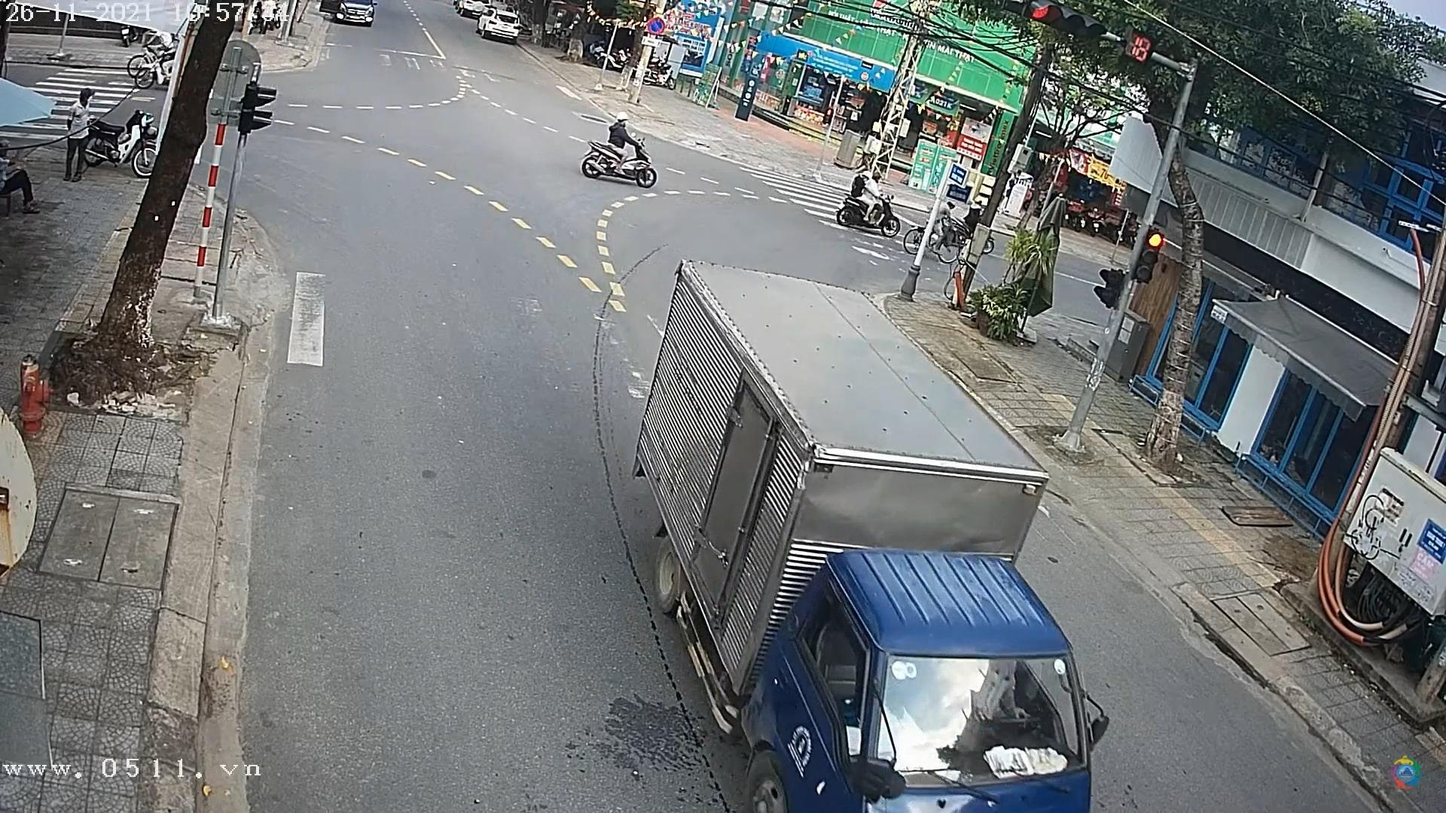truck: (633, 254, 1116, 812)
